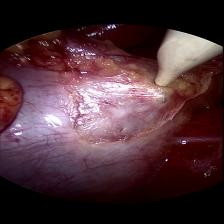Hook: (148, 30, 218, 102)
